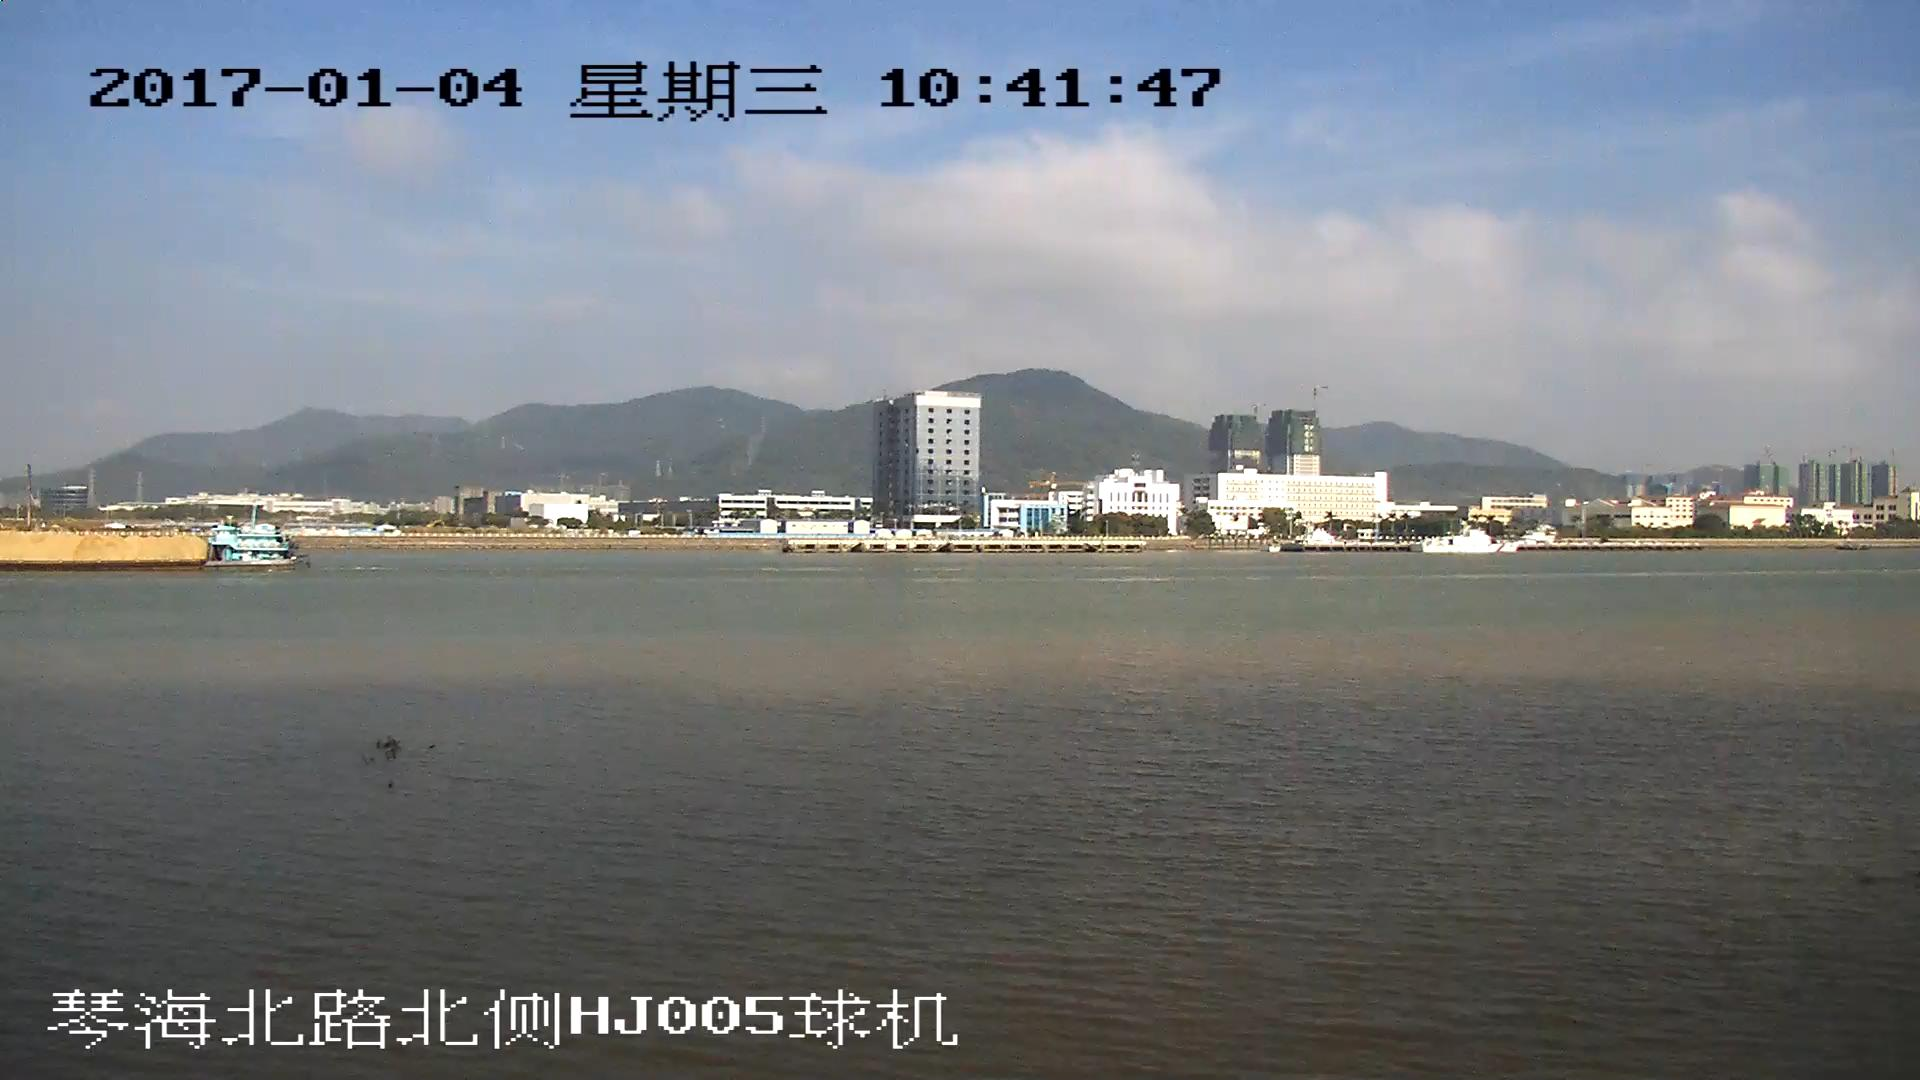ore carrier: (1, 525, 297, 572)
